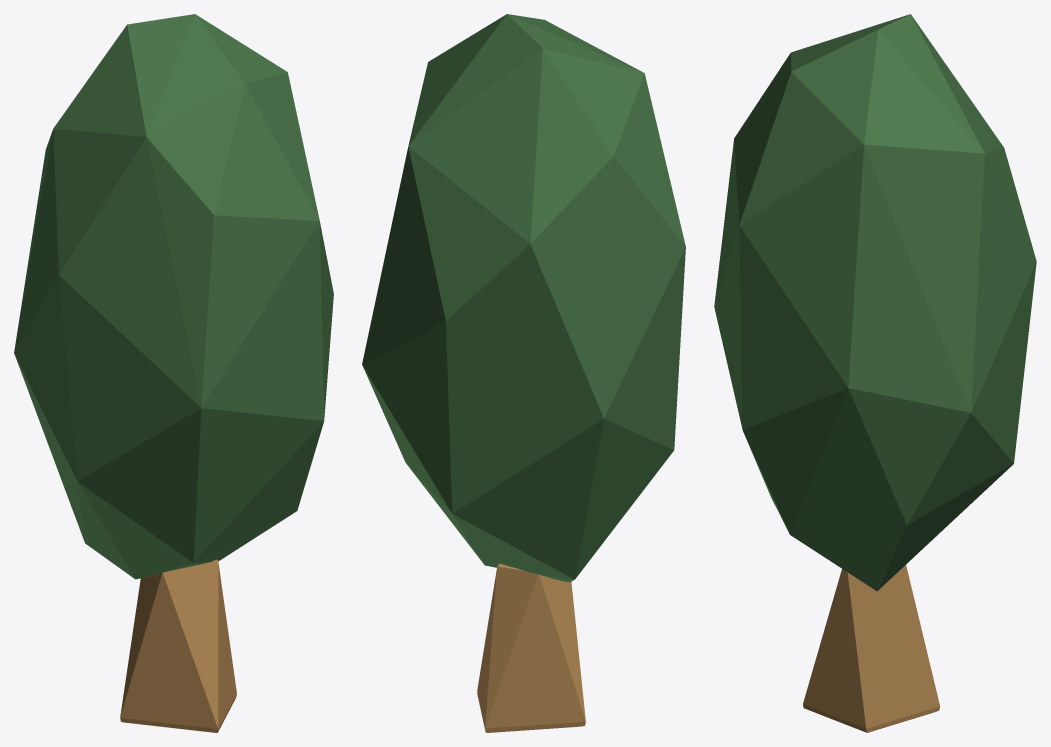
Rendered from grand_arbre_03.glb.
3 renders of one model, left to right at view 1: azimuth 30°, elevation 25°; view 2: azimuth 150°, elevation 25°; view 3: azimuth 270°, elevation 25°, orthographic.
Parts seen in each view (by area): view 1: Sphere, Cylinder; view 2: Sphere, Cylinder; view 3: Sphere, Cylinder.
Boxes of the visible parts, bbox=[...] form: Sphere: bbox=[14, 14, 333, 579]; Cylinder: bbox=[120, 559, 236, 732]; Sphere: bbox=[362, 14, 685, 582]; Cylinder: bbox=[477, 563, 585, 732]; Sphere: bbox=[714, 14, 1036, 591]; Cylinder: bbox=[803, 565, 939, 732].
Bounding box in the file's own units: 4.87 × 11.46 × 4.87.
